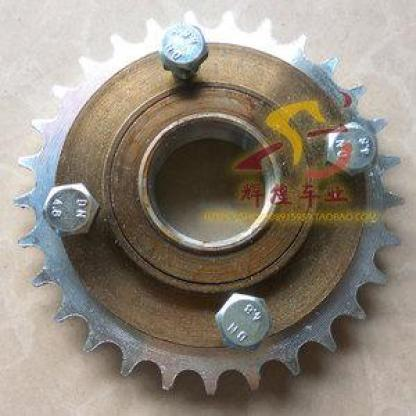FOD: (10, 6, 410, 400)
